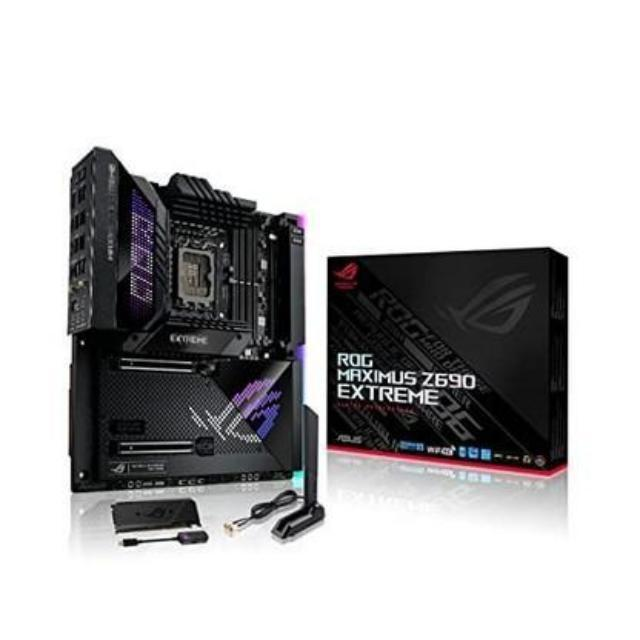Mainboard: (70, 158, 316, 534)
